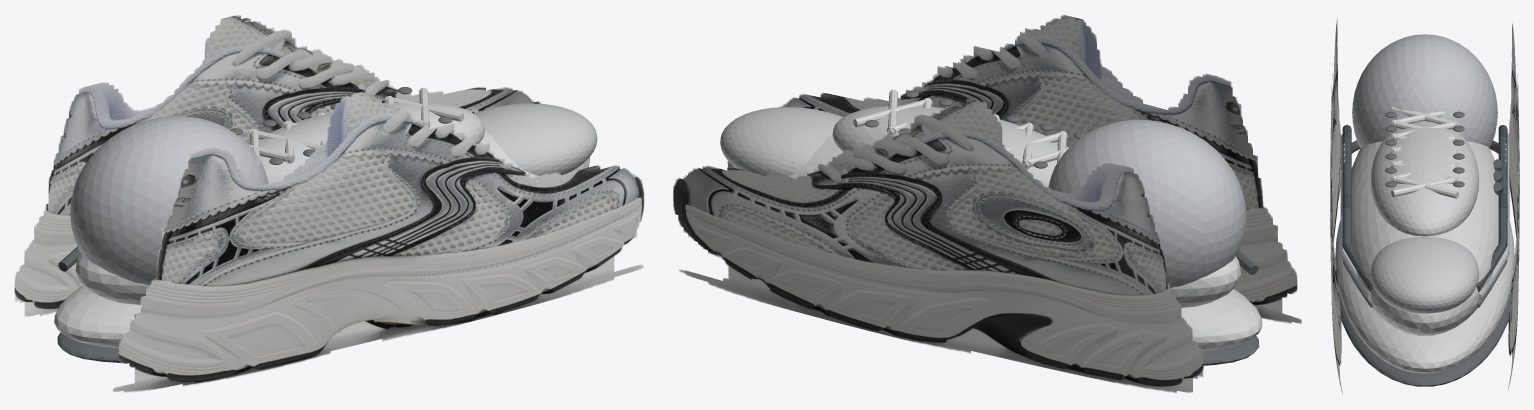
Rendered from matric10-photo-assisted.glb.
3 renders of one model, left to right at view 1: azimuth 30°, elevation 25°; view 2: azimuth 150°, elevation 25°; view 3: azimuth 270°, elevation 25°, orthographic. The views are drawn at different scales.
Parts seen in each view (by area): view 1: photographic-outer, photographic-inner, heel counter, toe cap, tongue, rubber sole, canvas upper, outsole trim; view 2: photographic-inner, photographic-outer, heel counter, toe cap, tongue, rubber sole, canvas upper, outsole trim; view 3: heel counter, canvas upper, tongue, rubber sole, toe cap, outsole trim, photographic-outer, photographic-inner, lace right 5, lace left 5, black-wave-1-5, black-wave--1-5 (+12 smaller).
Boxes of the visible parts, <box> form: photographic-outer: <box>113,91,644,392</box>; photographic-inner: <box>14,15,542,316</box>; heel counter: <box>70,116,268,285</box>; toe cap: <box>474,103,597,175</box>; tongue: <box>248,101,484,183</box>; rubber sole: <box>54,285,140,348</box>; canvas upper: <box>75,130,589,304</box>; outsole trim: <box>57,332,129,363</box>; photographic-inner: <box>673,99,1203,393</box>; photographic-outer: <box>779,15,1301,323</box>; heel counter: <box>1048,119,1246,288</box>; toe cap: <box>720,107,843,176</box>; tongue: <box>832,105,1068,187</box>; rubber sole: <box>1181,288,1262,350</box>; canvas upper: <box>727,134,1240,307</box>; outsole trim: <box>1202,336,1259,365</box>; heel counter: <box>1352,34,1497,147</box>; canvas upper: <box>1351,141,1498,335</box>; tongue: <box>1370,121,1479,236</box>; rubber sole: <box>1335,220,1514,373</box>; toe cap: <box>1370,236,1479,313</box>; outsole trim: <box>1335,257,1510,386</box>; photographic-outer: <box>1330,17,1342,394</box>; photographic-inner: <box>1508,23,1519,390</box>; lace right 5: <box>1391,175,1458,198</box>; lace left 5: <box>1391,176,1458,197</box>; black-wave-1-5: <box>1342,207,1351,246</box>; black-wave--1-5: <box>1498,207,1507,245</box>.
Bounding box in the file's own units: 0.2728 × 0.1243 × 0.0984.
Materials: 2 (2 with a texture image).
